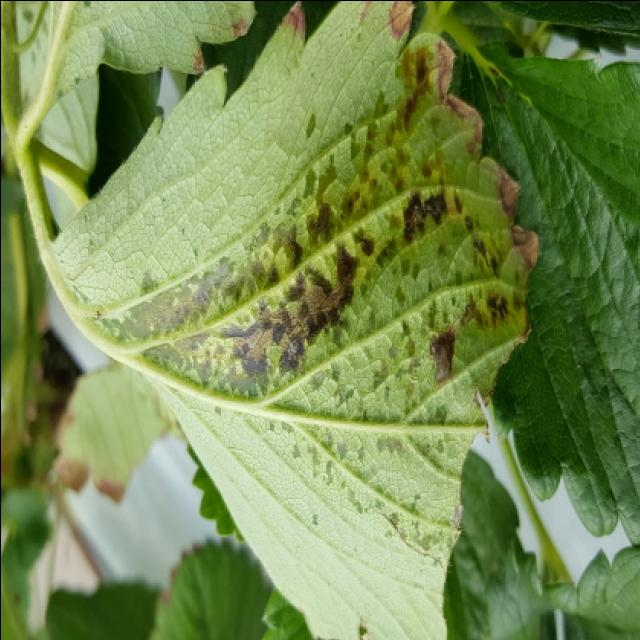Angular Leafspot: (51, 2, 538, 640), (43, 2, 257, 102)
